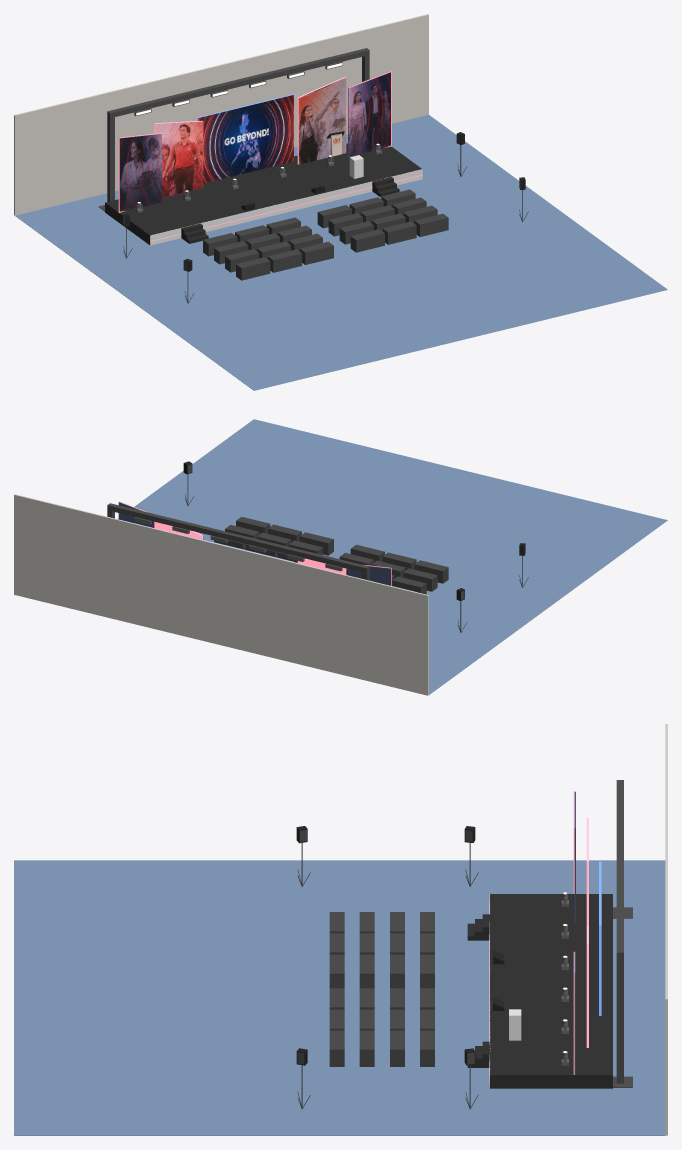
The model's file is dkt-stage.glb.
3 renders of one model, top to bottom at view 1: azimuth 30°, elevation 25°; view 2: azimuth 150°, elevation 25°; view 3: azimuth 270°, elevation 25°, orthographic. The views are drawn at different scales.
Visible parts, largest first — view 1: REF_Floor_Carpet, REF_Back_Wall, Stage_Deck_17.1x4.9x0.6m, ART_Center_LED_GoBeyond, ART_InnerWing_SL, ART_OuterWing_SR, ART_OuterWing_SL, ART_InnerWing_SR, Fascia_Tarp_56x2ft, Truss_Span_16m_0.3box, Truss_Tower_SR_5.3m, REF_Table_R4_+1.6 (+5 smaller); view 2: REF_Floor_Carpet, REF_Back_Wall, Truss_Span_16m_0.3box, OuterWing_Tarp_SR_2.7x4m, REF_Table_R3_-5.6, REF_Table_R4_-5.6, REF_Table_R4_+1.6; view 3: REF_Floor_Carpet, Stage_Deck_17.1x4.9x0.6m, Truss_Span_16m_0.3box, REF_Back_Wall, Truss_Tower_SL_5.3m.
Part boxes in pixels (bbox=[...]): REF_Floor_Carpet: bbox=[15, 115, 667, 390]; REF_Back_Wall: bbox=[14, 14, 428, 215]; Stage_Deck_17.1x4.9x0.6m: bbox=[105, 143, 421, 244]; ART_Center_LED_GoBeyond: bbox=[198, 95, 293, 183]; ART_InnerWing_SL: bbox=[298, 77, 346, 164]; ART_OuterWing_SR: bbox=[119, 134, 161, 212]; ART_OuterWing_SL: bbox=[348, 72, 390, 156]; ART_InnerWing_SR: bbox=[155, 121, 203, 197]; Fascia_Tarp_56x2ft: bbox=[150, 169, 422, 245]; Truss_Span_16m_0.3box: bbox=[110, 48, 367, 117]; Truss_Tower_SR_5.3m: bbox=[107, 111, 114, 201]; REF_Table_R4_+1.6: bbox=[350, 229, 384, 252]; REF_Floor_Carpet: bbox=[117, 419, 667, 694]; REF_Back_Wall: bbox=[14, 494, 428, 695]; Truss_Span_16m_0.3box: bbox=[109, 504, 366, 572]; OuterWing_Tarp_SR_2.7x4m: bbox=[348, 566, 391, 585]; REF_Table_R3_-5.6: bbox=[403, 568, 437, 591]; REF_Table_R4_-5.6: bbox=[414, 560, 448, 583]; REF_Table_R4_+1.6: bbox=[299, 532, 333, 555]; REF_Floor_Carpet: bbox=[14, 860, 665, 1135]; Stage_Deck_17.1x4.9x0.6m: bbox=[490, 894, 612, 1088]; Truss_Span_16m_0.3box: bbox=[616, 781, 623, 950]; REF_Back_Wall: bbox=[665, 724, 667, 1135]; Truss_Tower_SL_5.3m: bbox=[616, 951, 623, 1083].
Size of the model in its own units: 26 by 6.04 by 26.1.
Materials: 21 (5 with a texture image).
